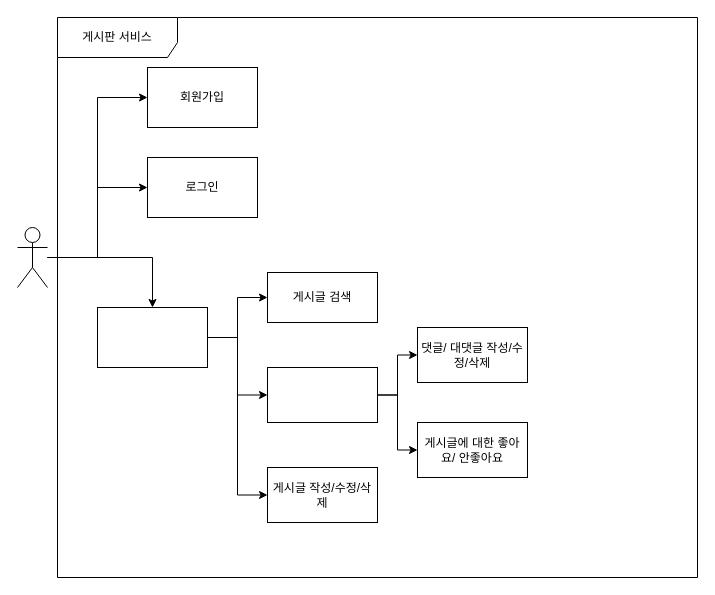
Some shapes in this 715 by 595 pixel diagram are drawn without their labels. Each missing label, with the centre of its shape:
게시글 목록: the point at 152,337
게시글 상세 입장: the point at 322,394
유저: the point at 32,257
